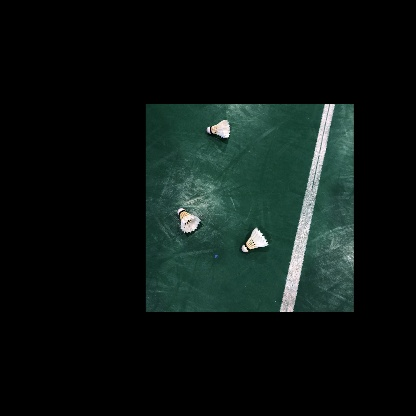ball_single: (241, 227, 269, 252), (177, 208, 201, 233), (206, 120, 230, 139)
